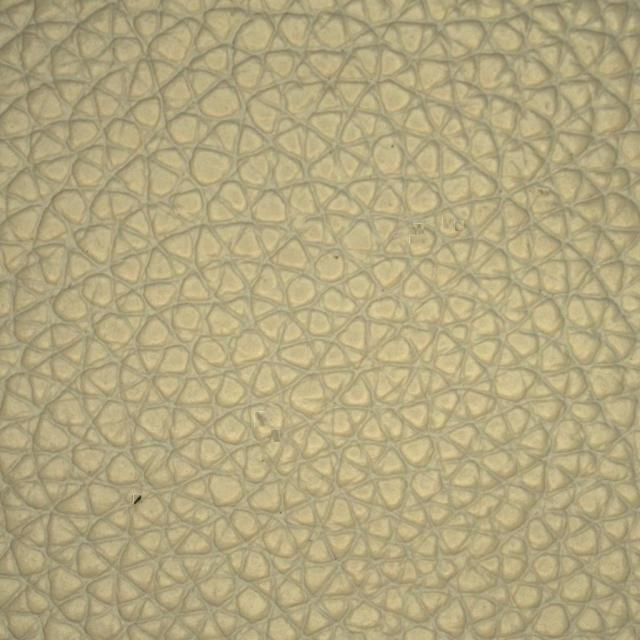pinhole: (73, 442, 210, 552)
